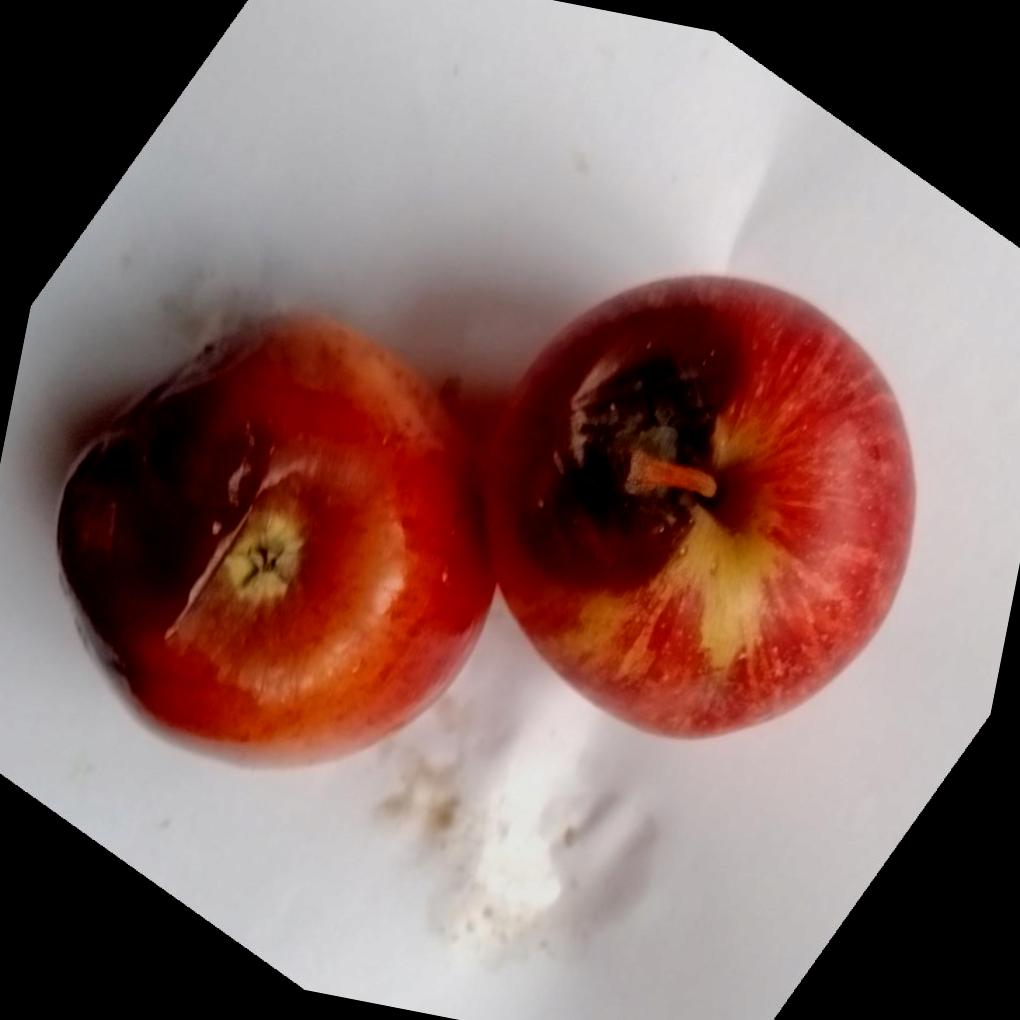FreshOrange: (56, 274, 920, 771)
